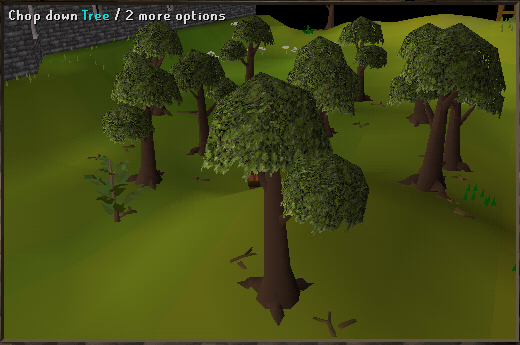Tree: (219, 82, 352, 319), (402, 27, 499, 203), (101, 49, 161, 201), (335, 10, 388, 99), (179, 49, 219, 162), (231, 13, 269, 79)
